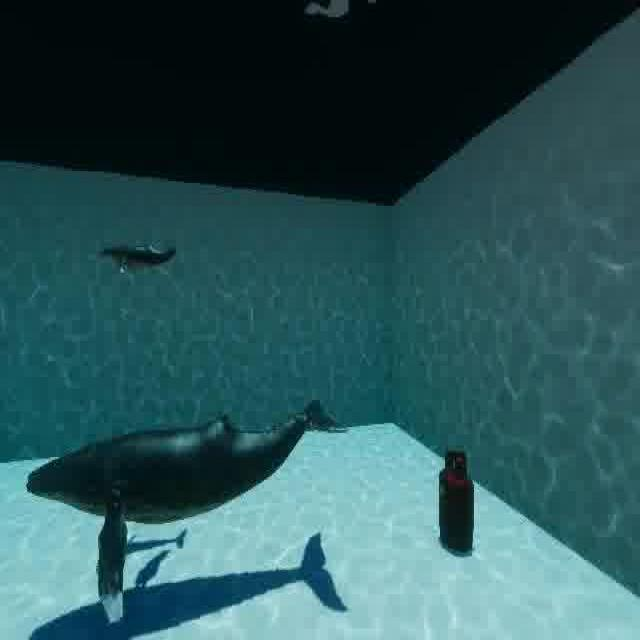Cylinder: (418, 428, 497, 576)
Whale: (3, 387, 370, 630), (89, 222, 187, 284)
